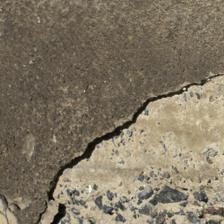Crack: (24, 37, 199, 163)
